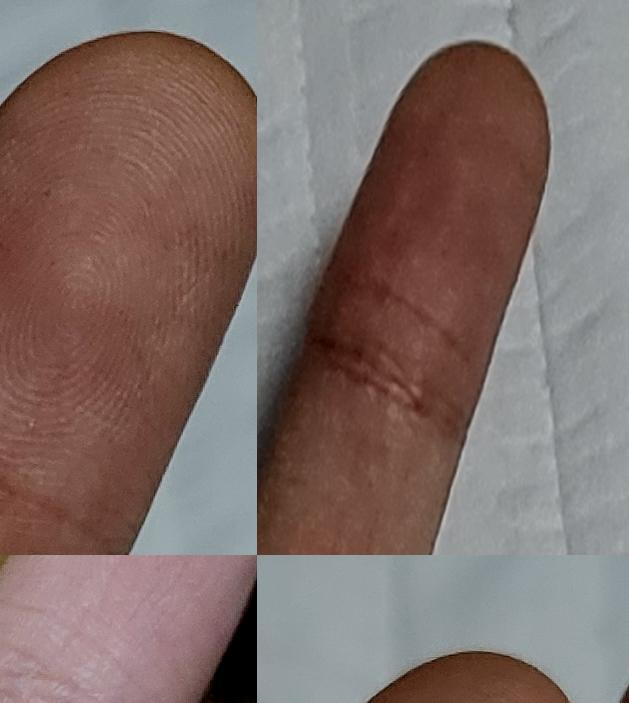Fingerprints: (0, 29, 257, 555), (322, 39, 551, 391), (0, 555, 257, 703)
